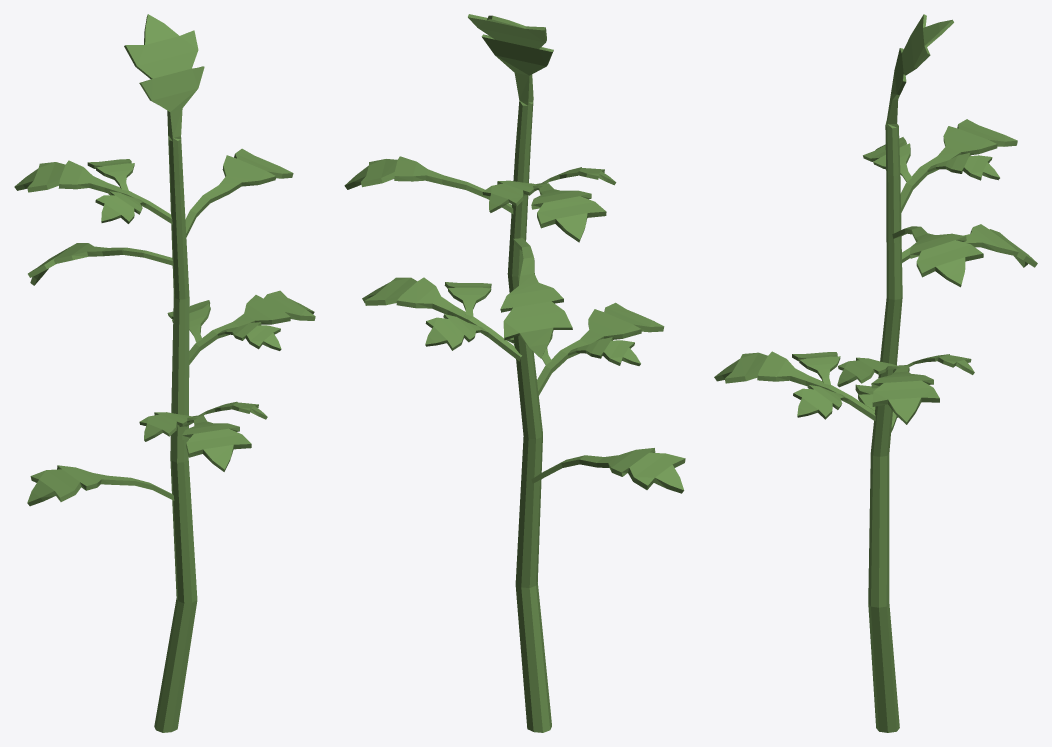
The model's file is crop_tomato.s3.glb.
3 views of the same model, side by side, from view 1: azimuth 30°, elevation 25°; view 2: azimuth 150°, elevation 25°; view 3: azimuth 270°, elevation 25° (orthographic). The views are drawn at different scales.
Bounding box in the file's own units: 0.3726 × 0.8302 × 0.3409.
